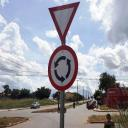Rotatoria: (46, 43, 80, 93)
preferencia: (46, 0, 83, 45)
